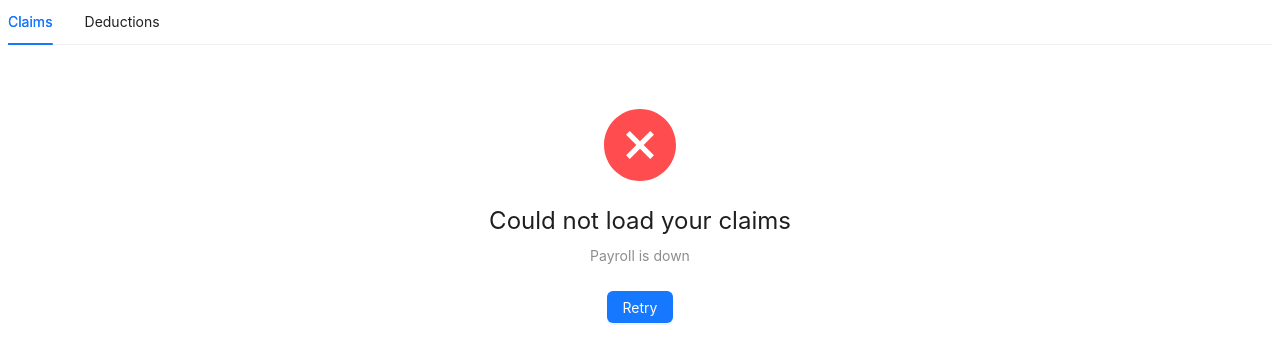
Test case: MyClaimsPanel (W-47.4 §7) › a load error shows Retry and no rows, and Retry loads again
This screenshot has width=1280, height=342.
Check: the text "Payroll is down" is shown, box [590,247,690,264]
Check: the text "Fuel" is not shown
Click the button "Retry". click: point(640, 307)
box: [606,291,673,323]
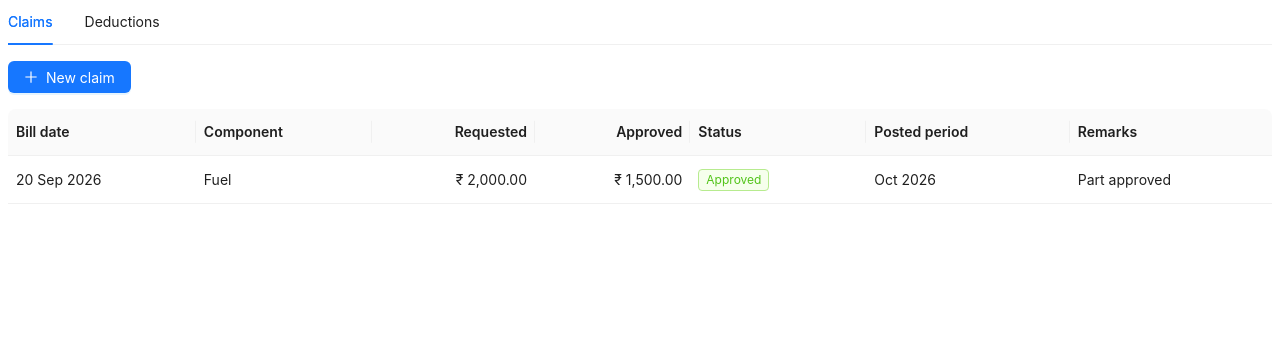
Check: the text "Fuel" is shown, box [196,156,372,204]
